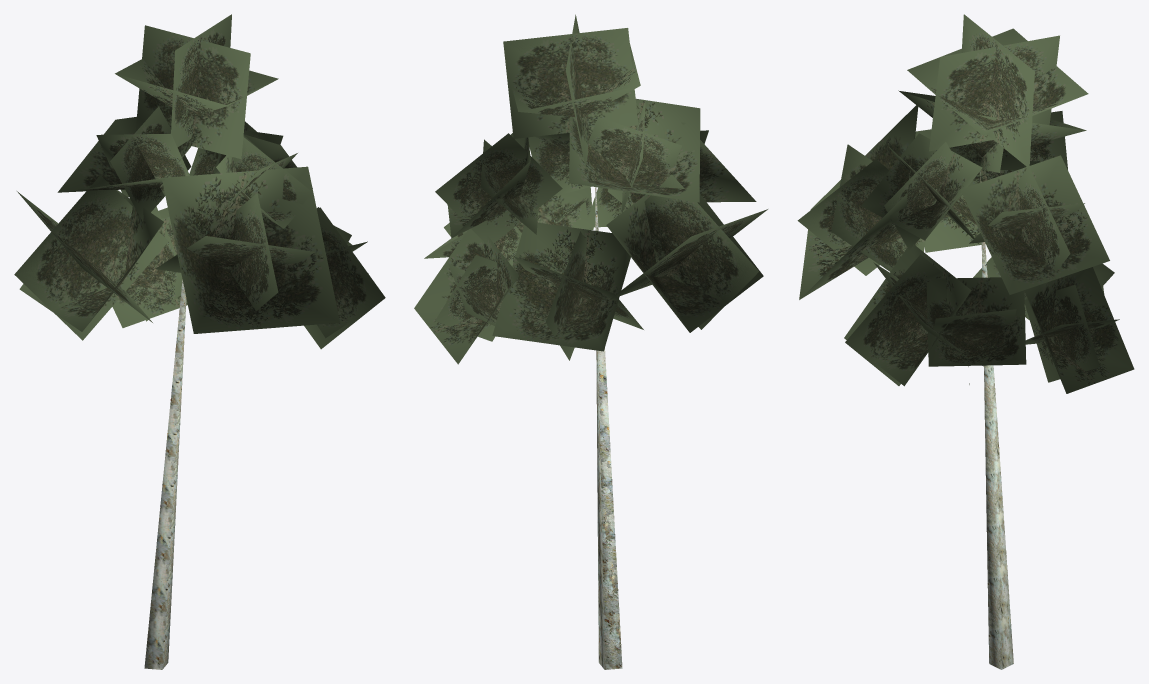
The model's file is ever_eucalyptus_short_l4.fbx.
3 renders of one model, left to right at view 1: azimuth 30°, elevation 25°; view 2: azimuth 150°, elevation 25°; view 3: azimuth 270°, elevation 25°, orthographic. The views are drawn at different scales.
Parts seen in each view (by area): view 1: mesh_node; view 2: mesh_node; view 3: mesh_node.
Part boxes in pixels (x1,y1,x2,y2): mesh_node: [14, 14, 385, 669]; mesh_node: [414, 14, 767, 669]; mesh_node: [797, 14, 1134, 669].
Size of the model in its own units: 10.61 by 19.32 by 9.07.
